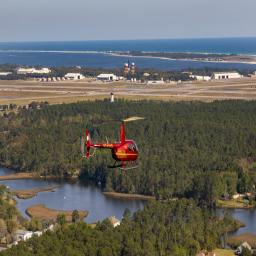helicopter: (79, 110, 150, 177)
